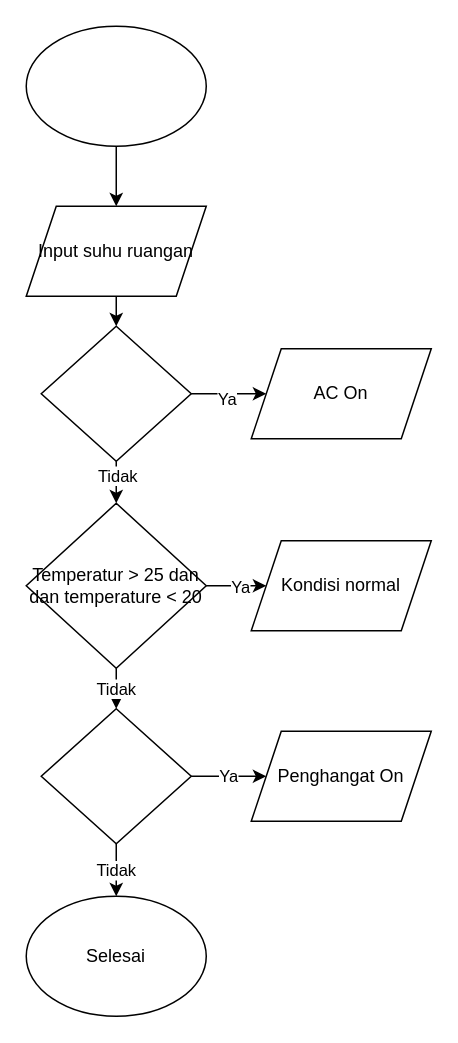
Some shapes in this 458 by 1043 pixel diagram are drawn without their labels. Each missing label, with the centre of its shape:
"MULAI" goes at pixel 115 85.
"Temperatur < 20" goes at pixel 115 775.
"Temperatur > 25" goes at pixel 115 393.
